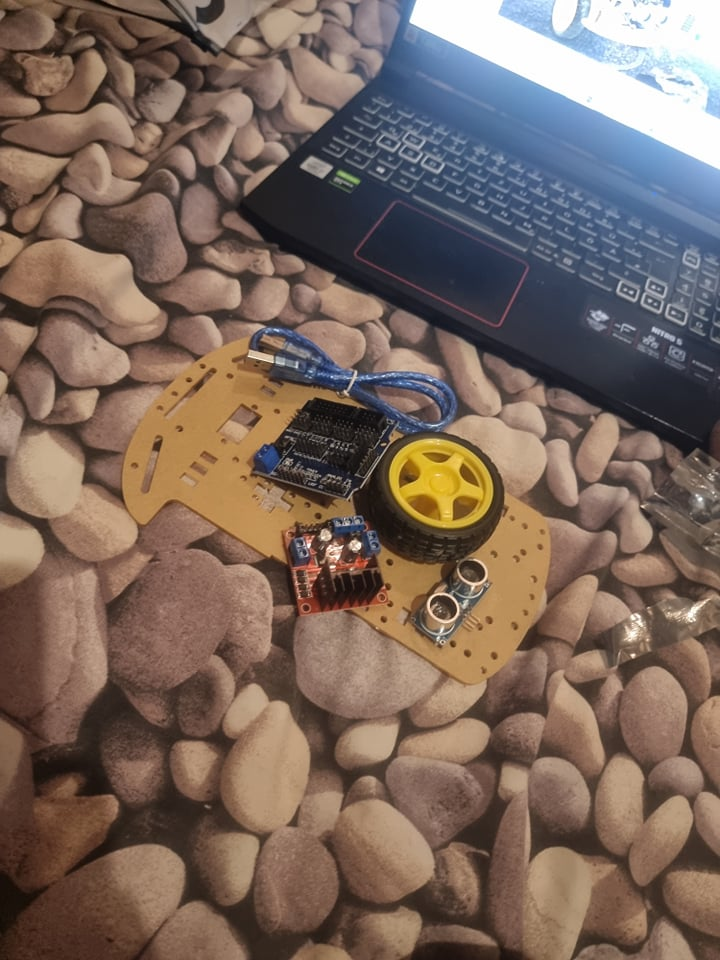5V EXPANSION: (248, 396, 402, 500)
MOTOR: (278, 513, 389, 616)
SENSOR: (413, 552, 496, 647)
